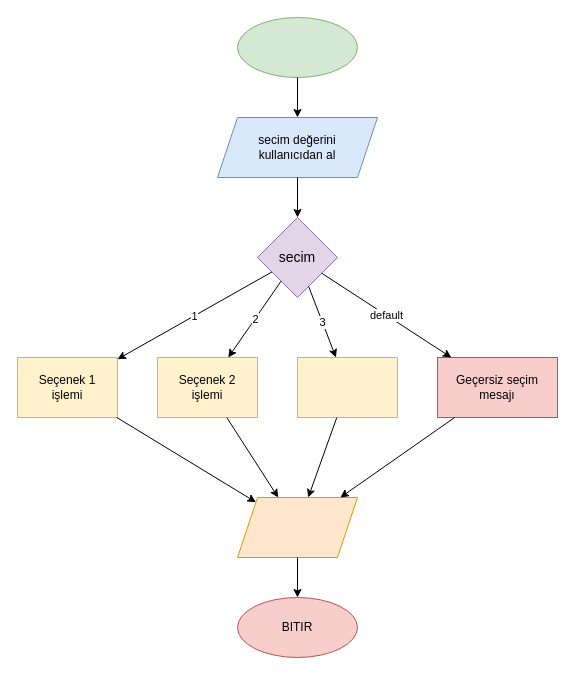
The diagram is 575 pixels wide and 675 high, and some of its shapes have lost their labels. The shapes that lost their labels are listed below. From the top down, each one's centre as x and y in pixels, then its label:
[297,47]: BAŞLA
[347,387]: Seçenek 3 işlemi
[297,527]: Sonuç göster
